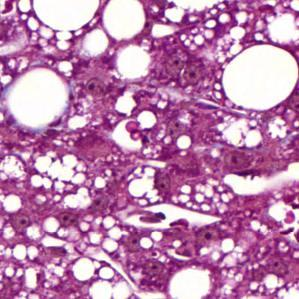steatosis: (220, 46, 298, 113)
